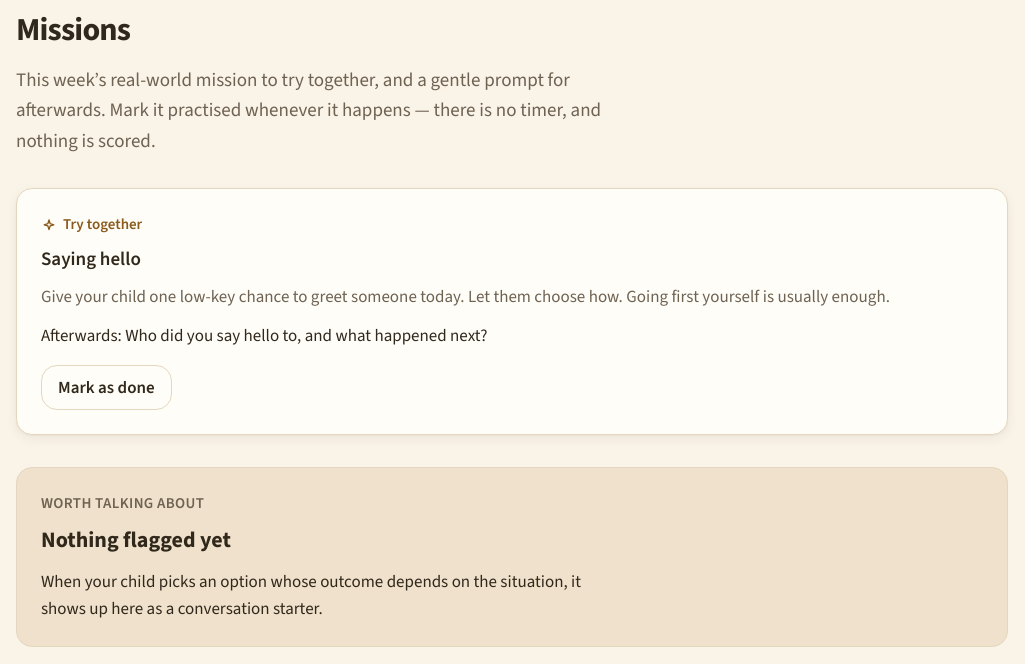
Scenario: MissionsSection › marks the mission practised and back again
Later steps or results of the test are not shown.
Click the button "Mark as done". click: (106, 388)
box: [41, 365, 172, 410]
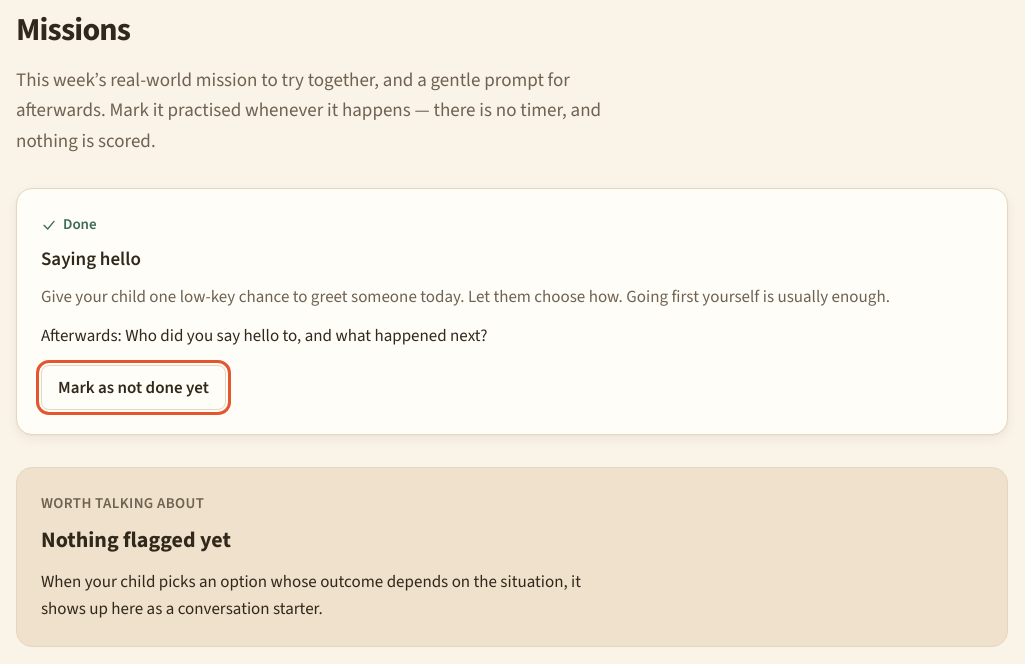
Expected: the text "Done" is shown, [41, 213, 97, 236]
